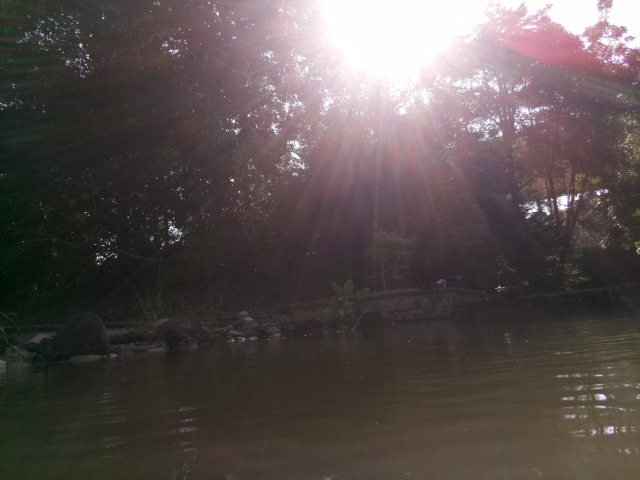obstacle: (357, 309, 386, 334)
